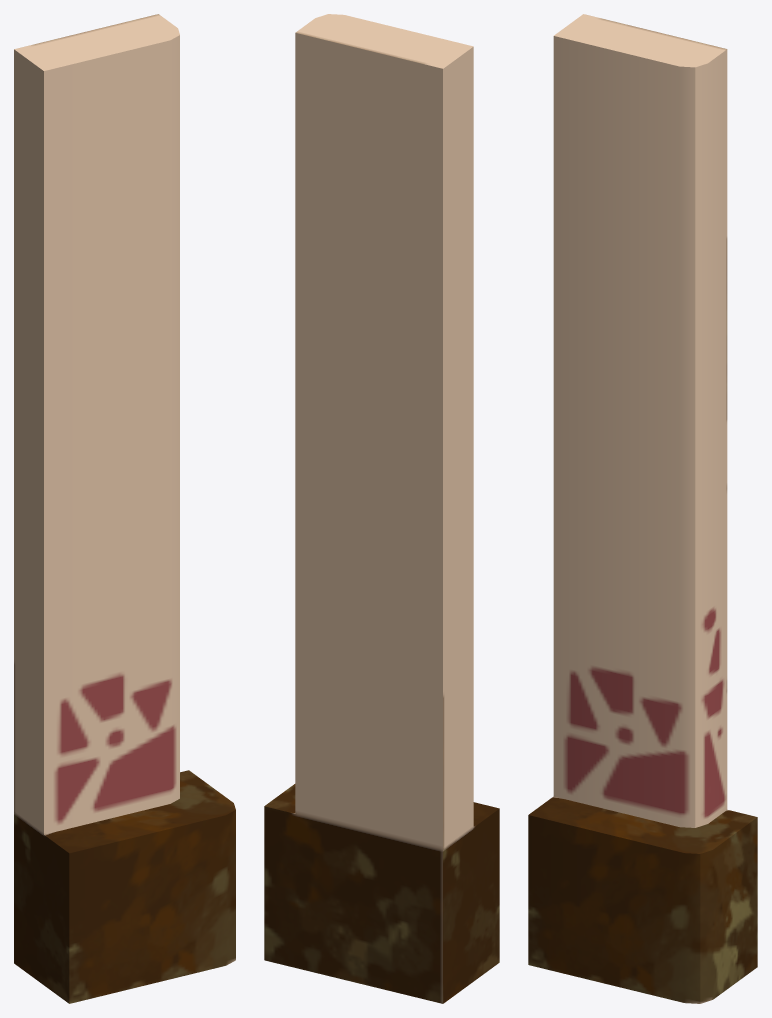
File: columna pared recta.fbx
3 renders of one model, left to right at view 1: azimuth 30°, elevation 25°; view 2: azimuth 150°, elevation 25°; view 3: azimuth 330°, elevation 25°, orthographic. The views are drawn at different scales.
Visible parts, largest first — view 1: Cube.118; view 2: Cube.118; view 3: Cube.118.
Boxes of the visible parts, x1,y1,x2,y2 form: Cube.118: [14, 14, 235, 1003]; Cube.118: [264, 14, 499, 1003]; Cube.118: [528, 14, 757, 1003].
Bounding box in the file's own units: 71.97 × 359 × 39.47.
